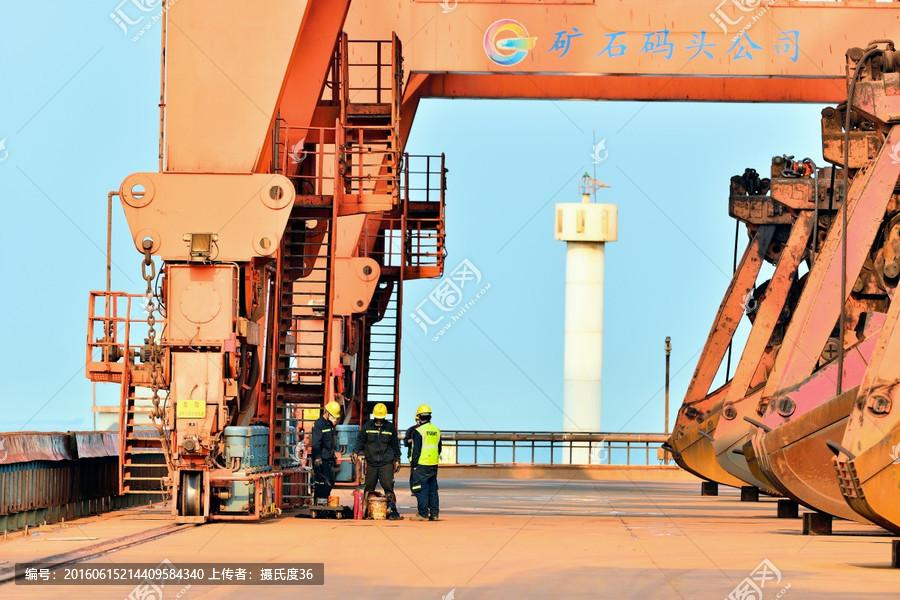helmet: (373, 404, 389, 420), (327, 403, 342, 419), (417, 406, 433, 418)
